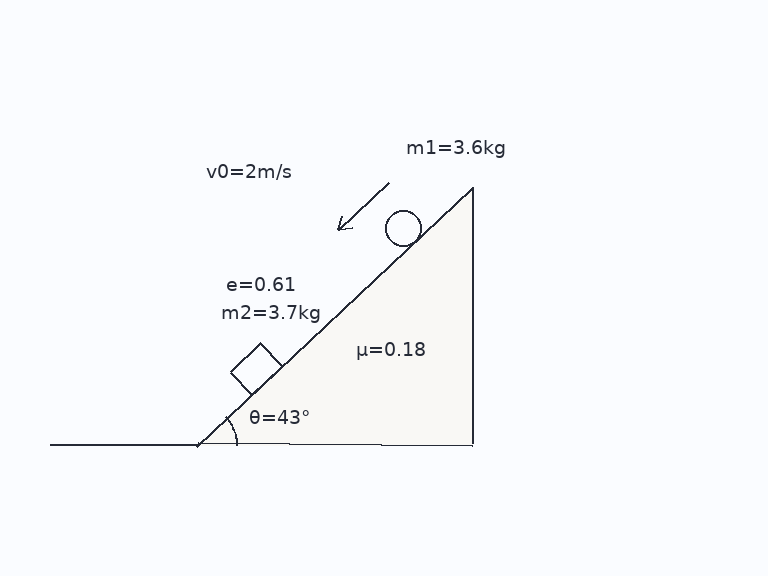ball: (383, 208, 423, 248)
block: (228, 342, 283, 397)
ramp: (195, 186, 475, 447)
